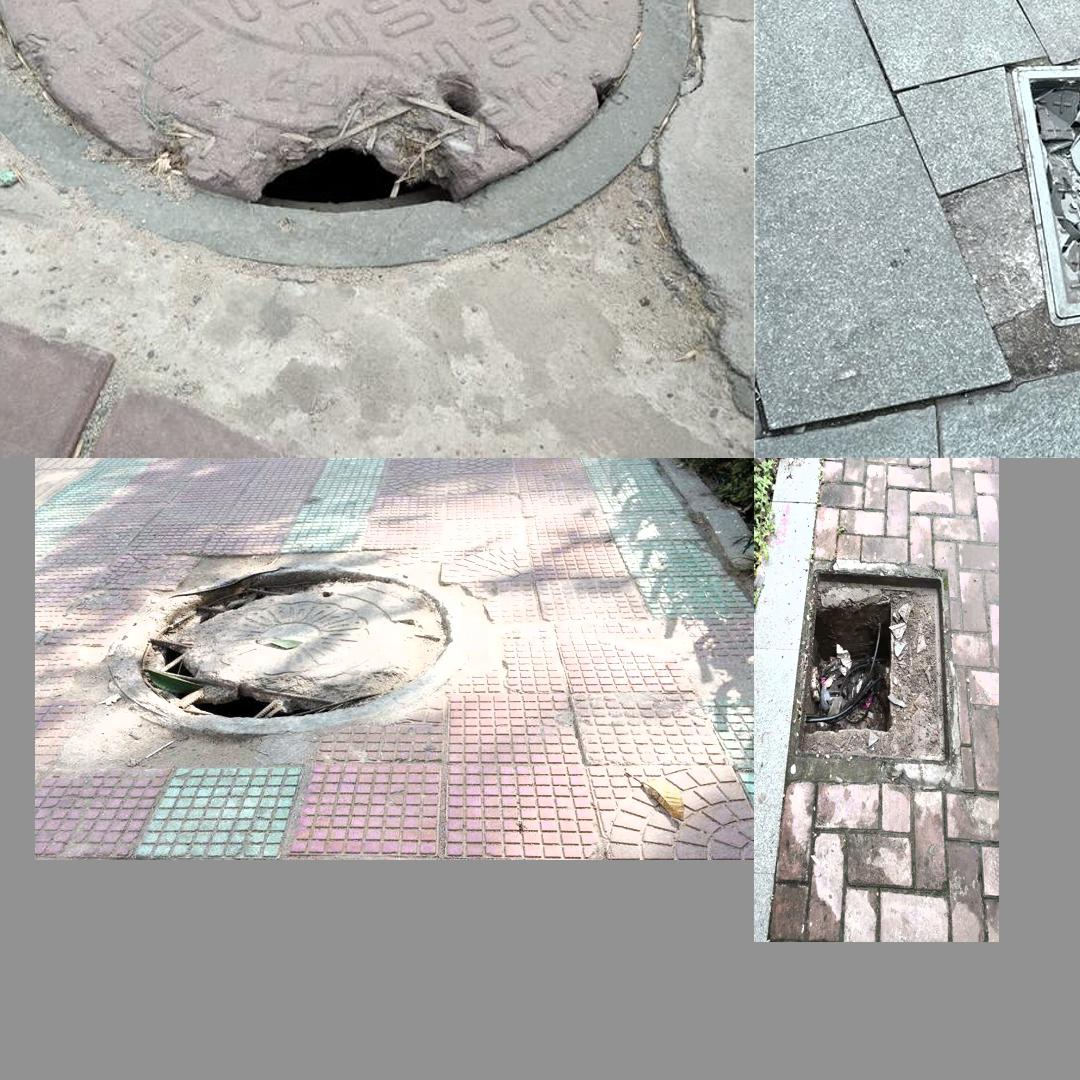broke: (0, 0, 701, 260), (120, 566, 473, 723), (955, 37, 1080, 314), (791, 567, 953, 763)
